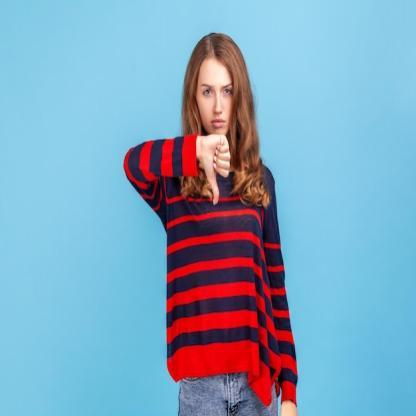thumb_down: (197, 128, 232, 210)
